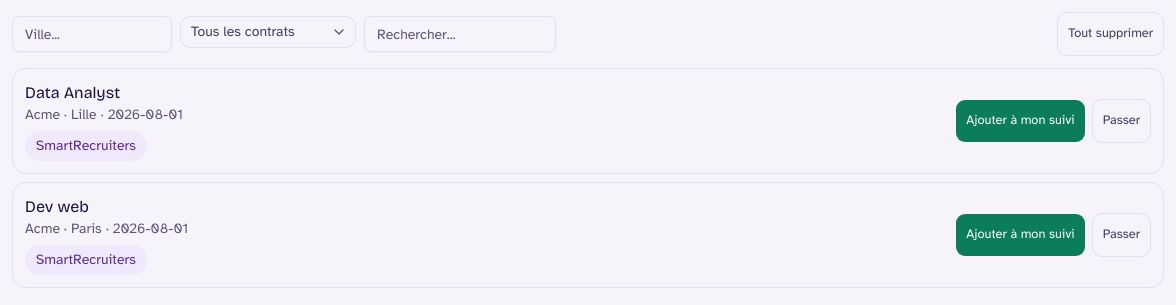
Scenario: ReviewQueueManager › filters the list by city
Type "Paris" into the field named "Filtrer par ville" at [92, 34], box left=12, top=16, right=172, bottom=52
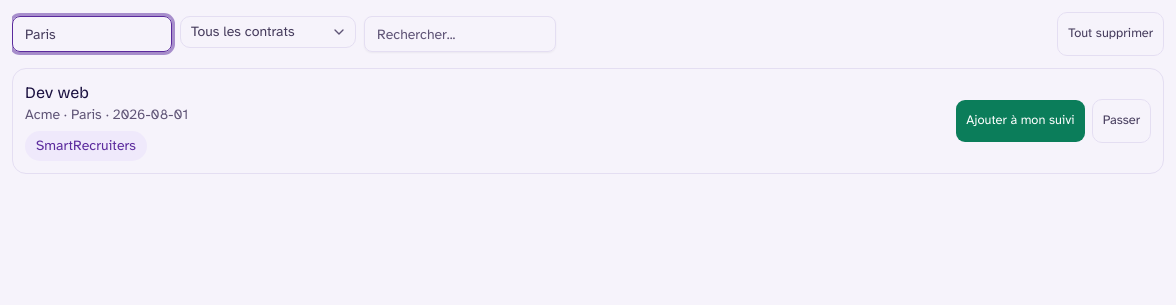
Expected: the link "Dev web" is shown, left=25, top=83, right=89, bottom=102
Expected: the link "Data Analyst" is gone
